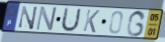0: (108, 10, 125, 35)
G: (125, 10, 147, 38)
K: (82, 9, 101, 34)
N: (34, 5, 59, 32), (17, 5, 39, 31)
U: (59, 6, 83, 33)
